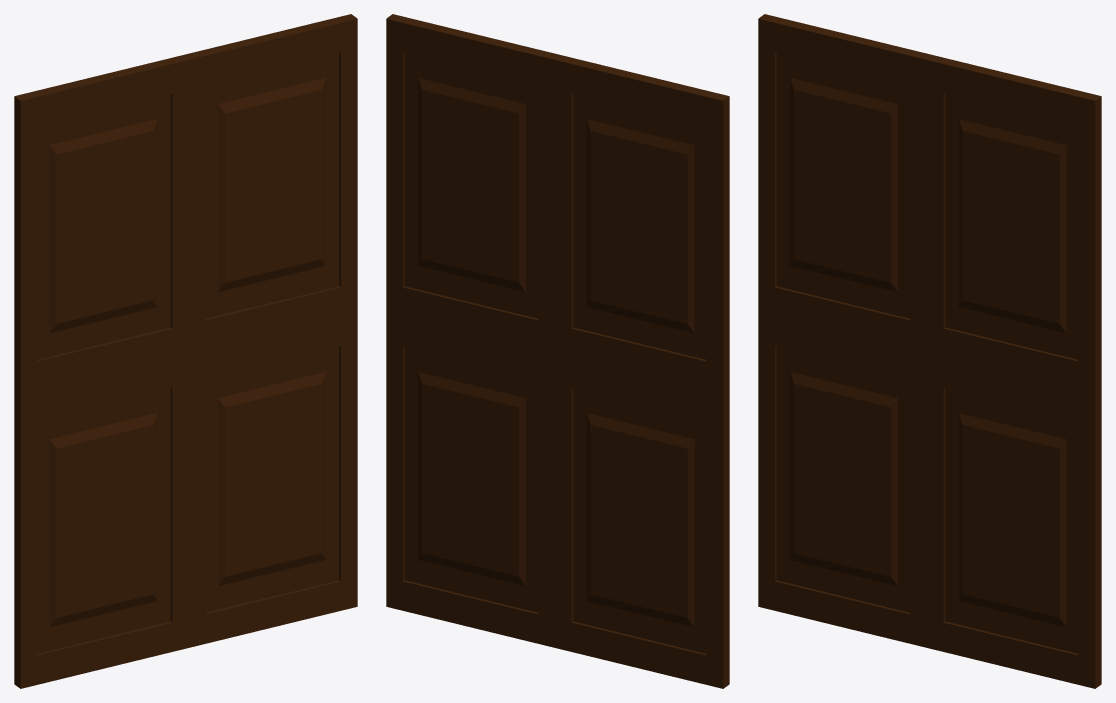
Rendered from door_120.dae.
3 renders of one model, left to right at view 1: azimuth 30°, elevation 25°; view 2: azimuth 150°, elevation 25°; view 3: azimuth 330°, elevation 25°, orthographic.
Parts seen in each view (by area): view 1: door; view 2: door; view 3: door.
Boxes of the visible parts, x1,y1,x2,y2 form: door: (14, 14, 357, 688); door: (386, 14, 729, 688); door: (758, 14, 1101, 688).
Size of the model in its own units: 1.2 by 0.04 by 2.
